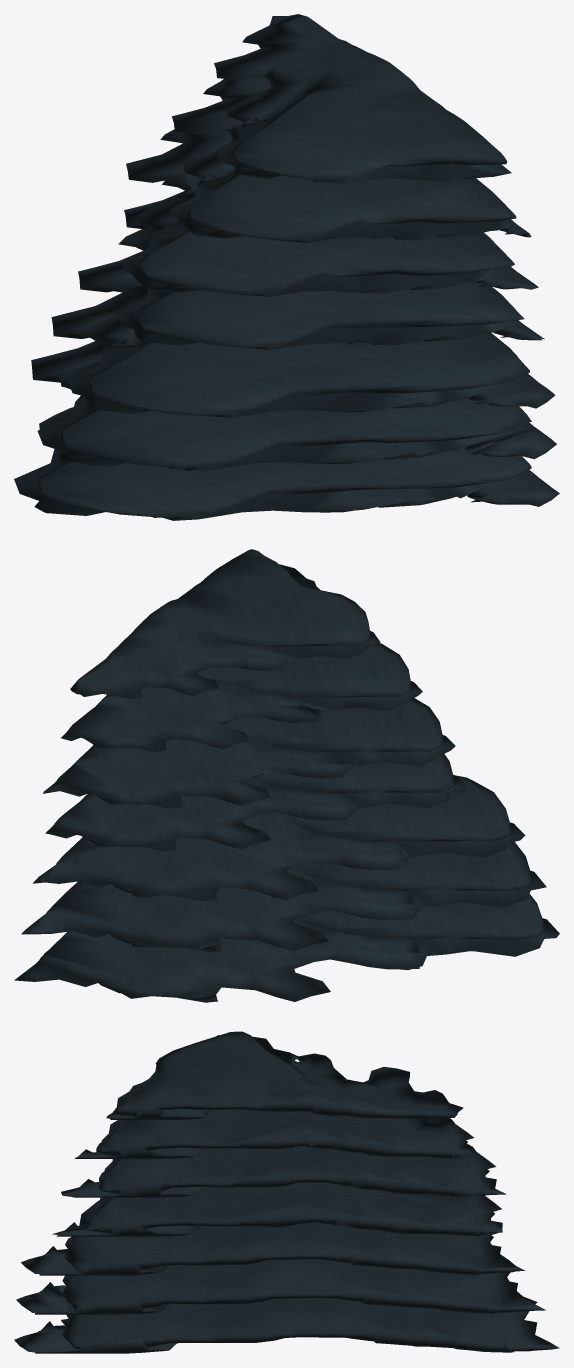
The model's file is slate-v1-last-lod0.gltf.
3 renders of one model, top to bottom at view 1: azimuth 30°, elevation 25°; view 2: azimuth 150°, elevation 25°; view 3: azimuth 270°, elevation 25°, orthographic. The views are drawn at different scales.
Parts seen in each view (by area): view 1: slate-v1-last-lod0; view 2: slate-v1-last-lod0; view 3: slate-v1-last-lod0.
Boxes of the visible parts, left/top/right/bottom form: slate-v1-last-lod0: left=14, top=14, right=559, bottom=520; slate-v1-last-lod0: left=14, top=549, right=559, bottom=1002; slate-v1-last-lod0: left=14, top=1031, right=559, bottom=1353.
Size of the model in its own units: 0.7 by 0.5062 by 0.9915.
Materials: 1 (1 with a texture image).
